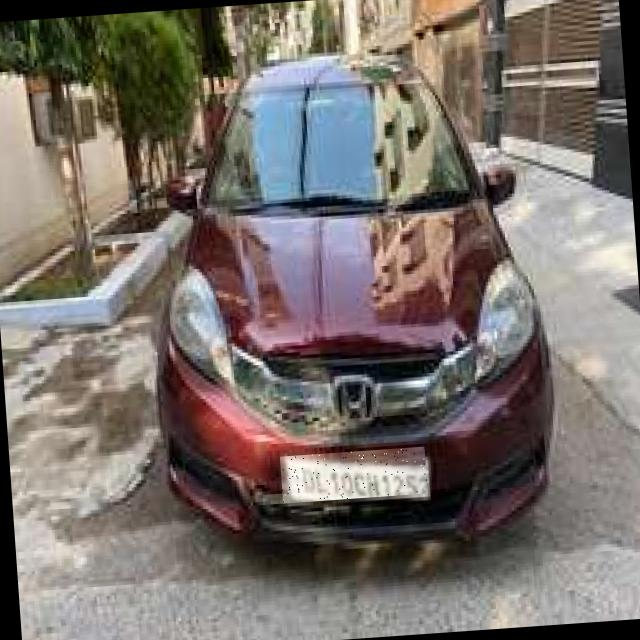Plate: (281, 447, 429, 504)
